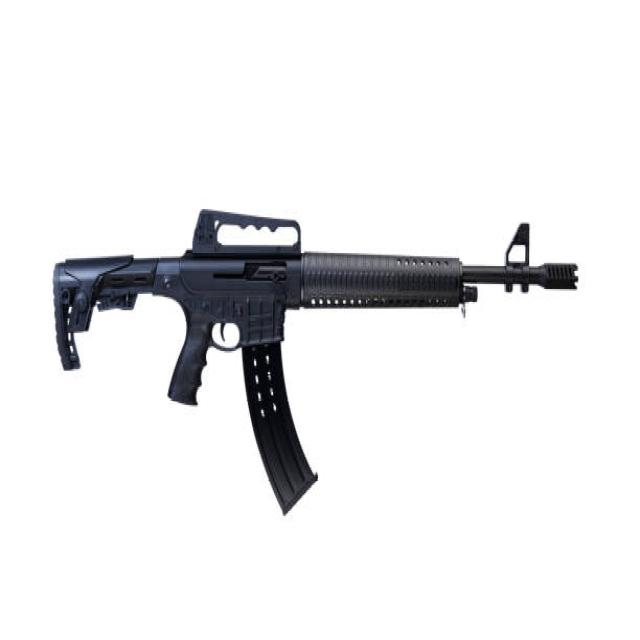rifle: (47, 190, 582, 522)
